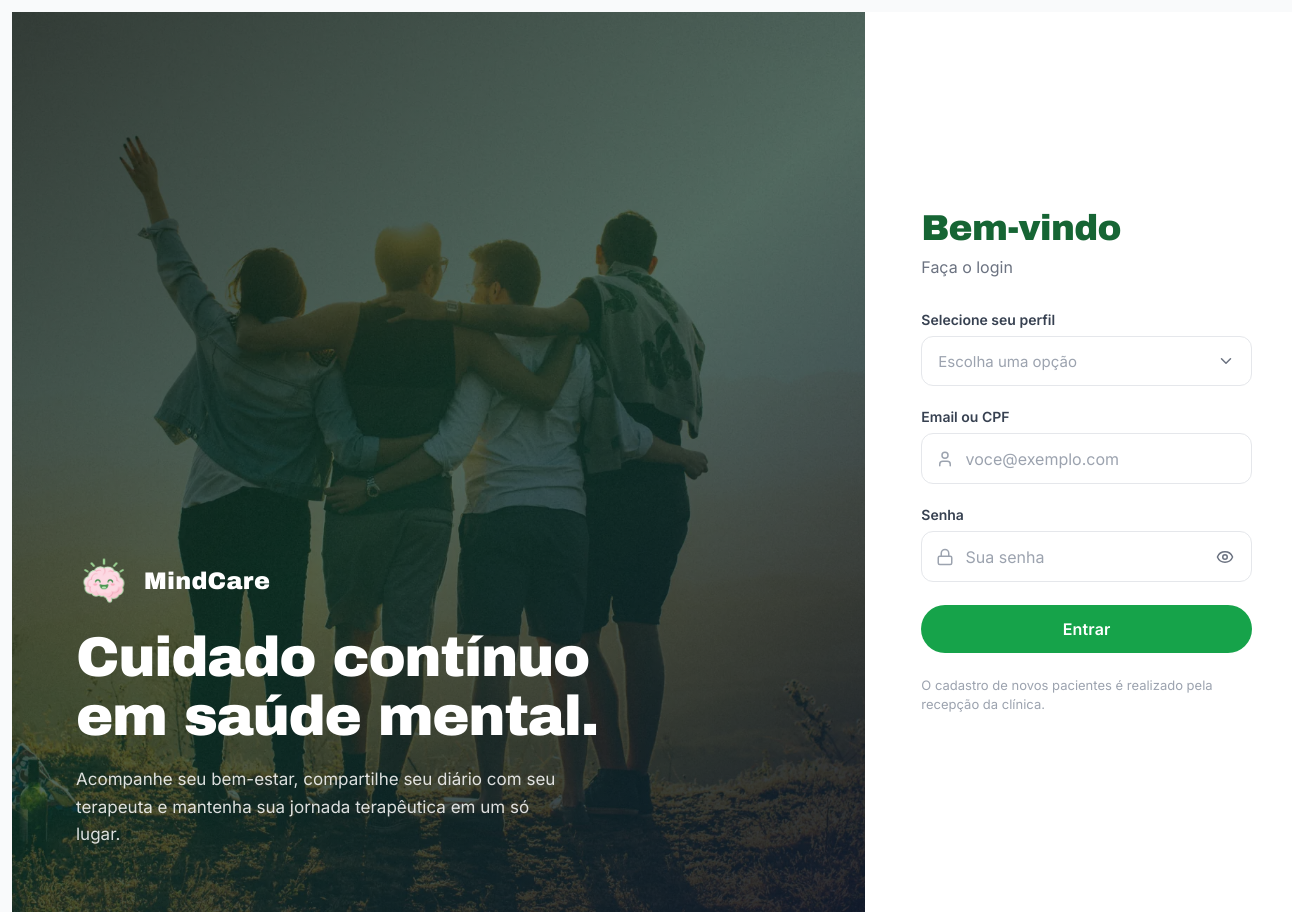
Test: Tela de Login › redireciona profissional autenticado
The image size is (1292, 912).
Step 1. Click the button "Escolha uma opção" → (1008, 361), box [921,336,1252,386]
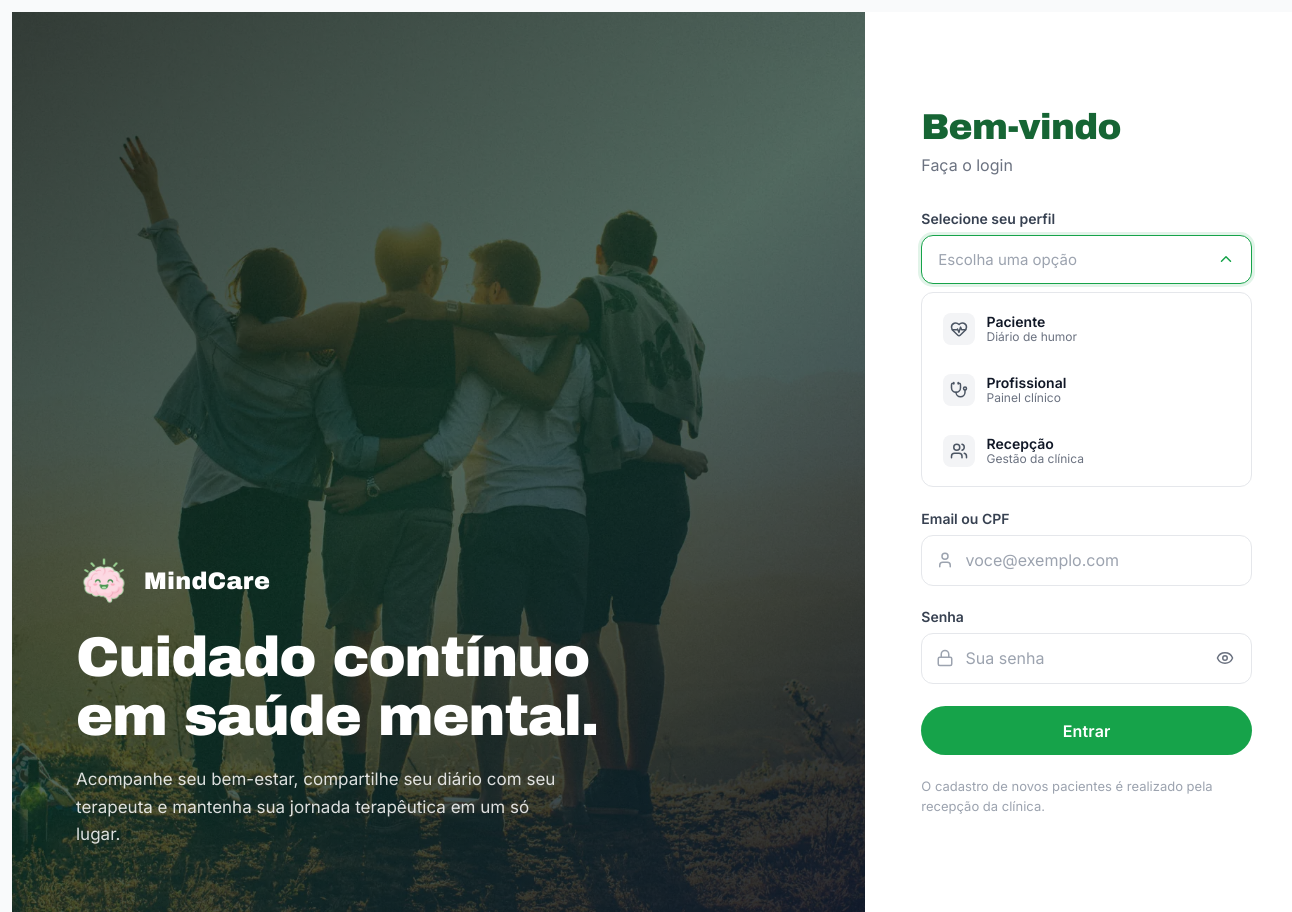
Step 2. Click the option "Profissional Painel clínico" → (959, 390), box [930,362,1243,417]
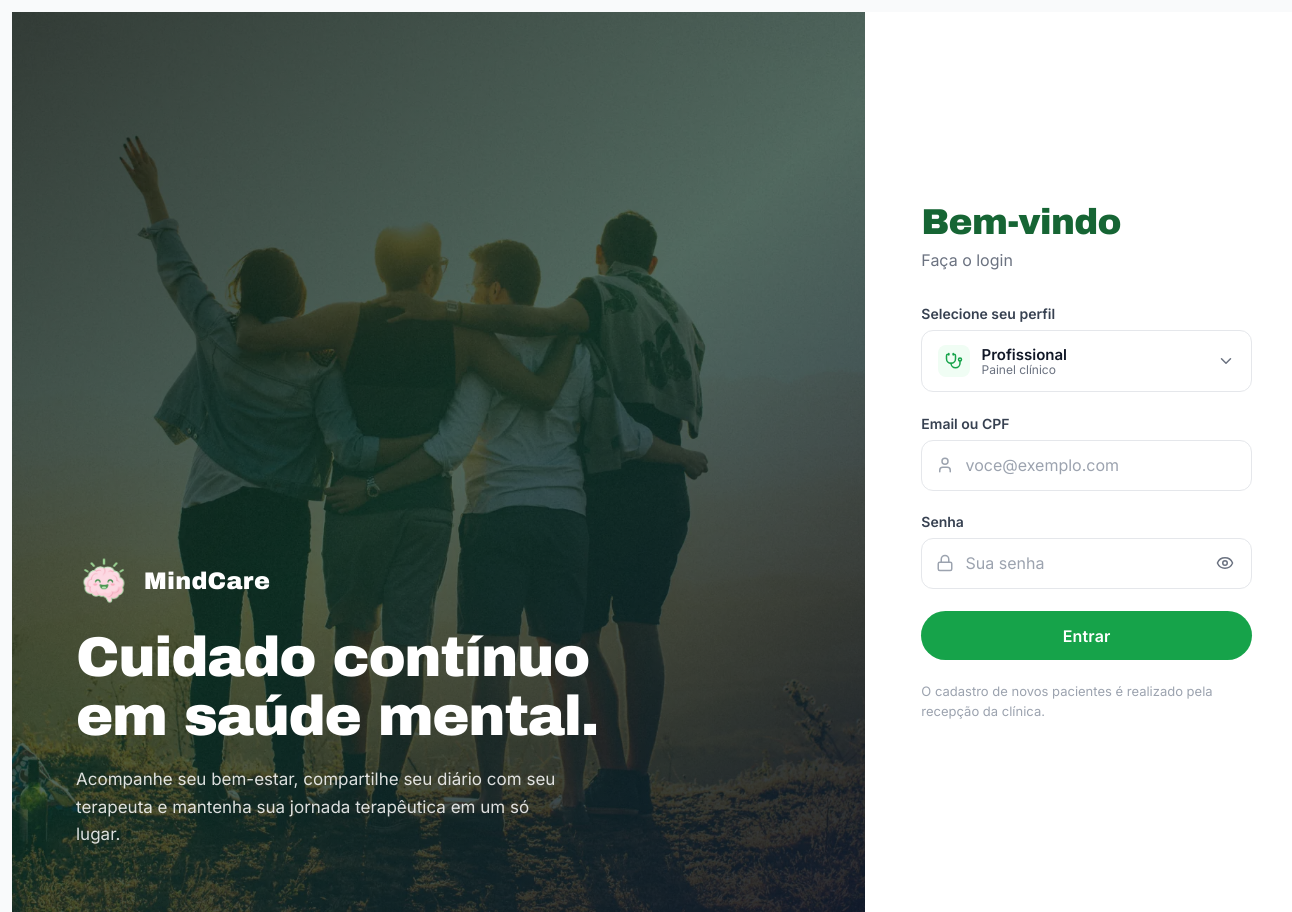
Step 3. Type "usuario@teste.com" into the field labelled "Email ou CPF" → (1087, 465), box [921,440,1252,491]
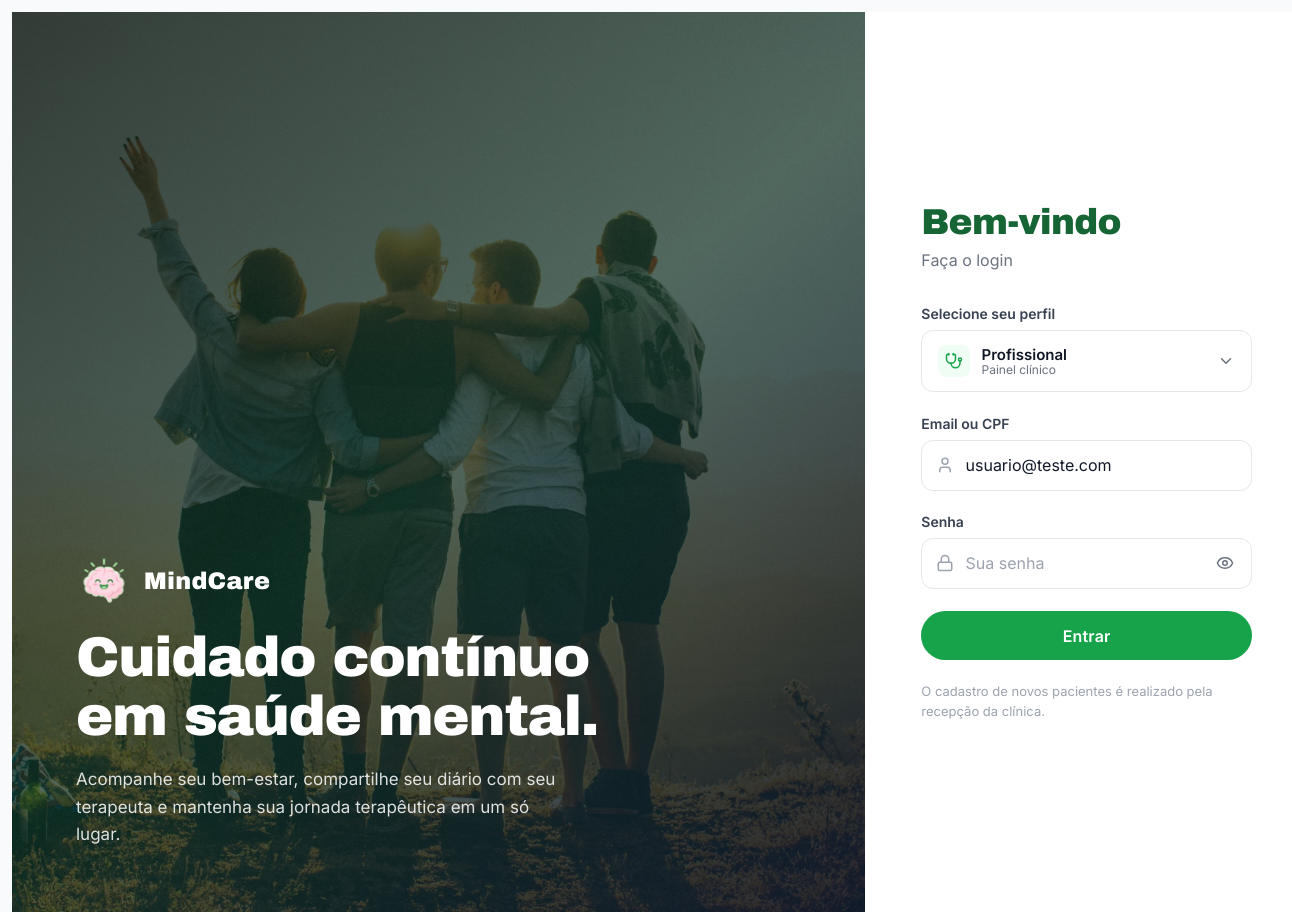
Step 4. Type "senhaTeste" into the password field labelled "Senha" → (1087, 563), box [921,538,1252,589]
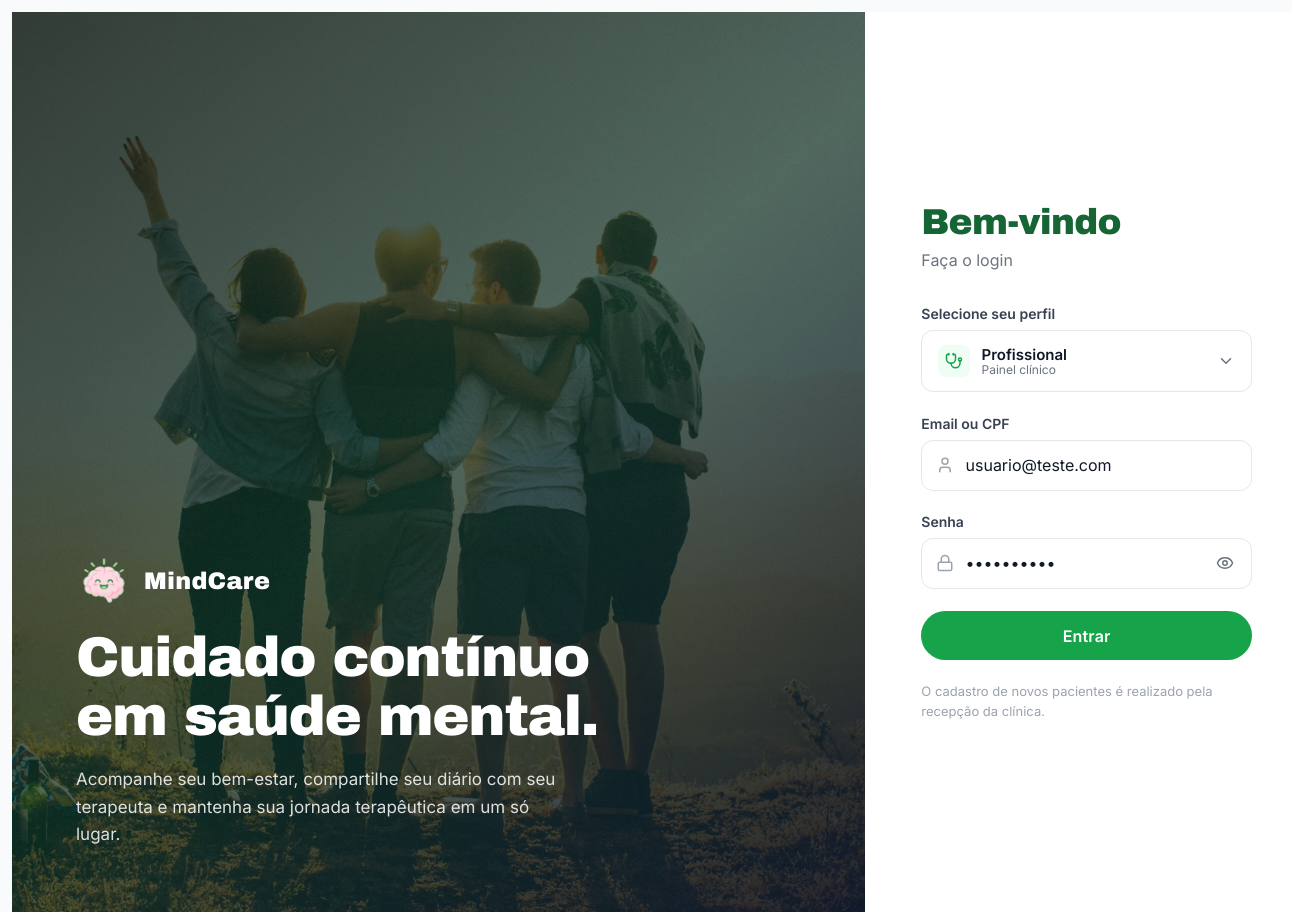
Step 5. Click the button "Entrar" → (1087, 636), box [921,611,1252,660]
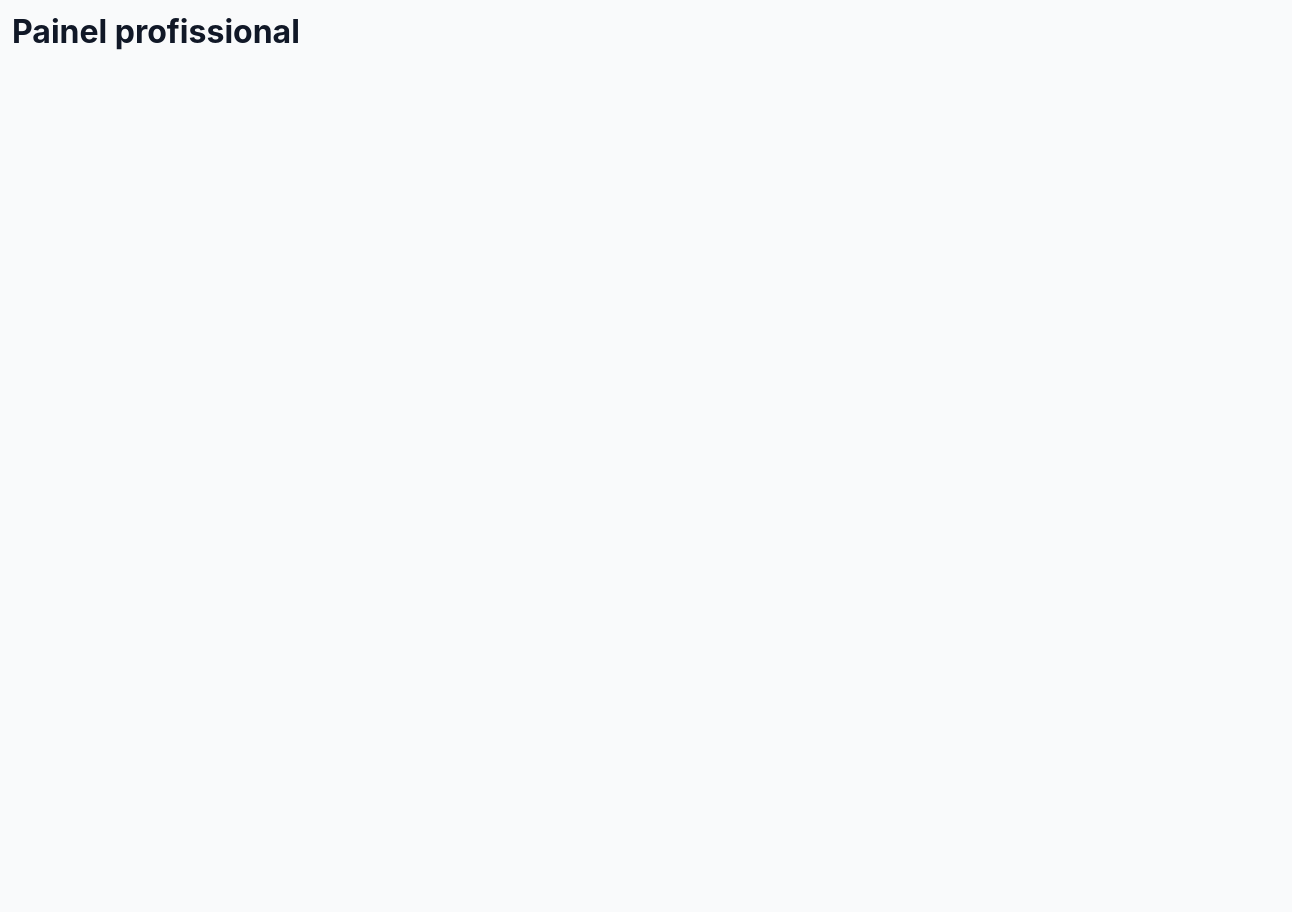
Now the heading "Painel profissional" is shown, box [12,12,300,51]
